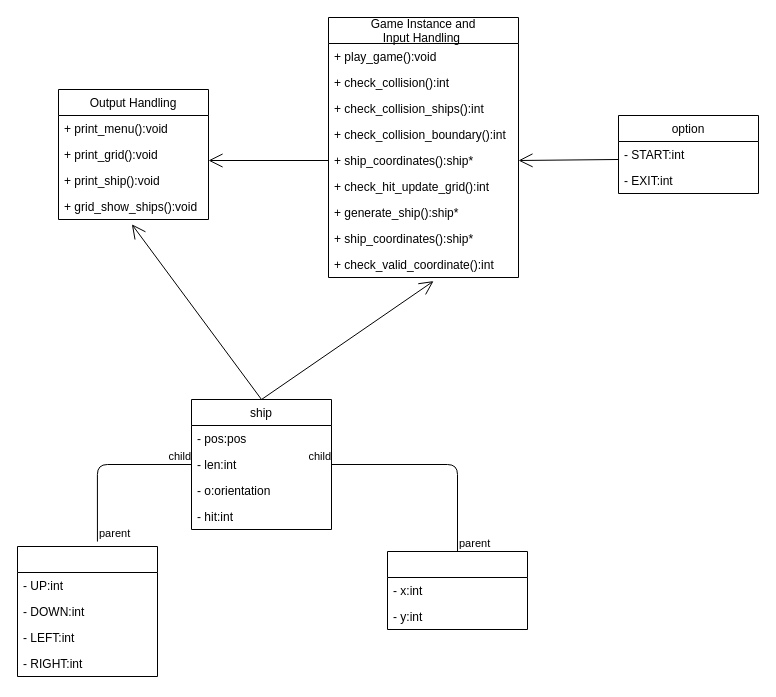
This 776x697 diagram has some shape labels left out. The box of each missing label's shape, as (x1, y1, x2, y2) in pixels:
orientation: (16, 546, 158, 676)
pos: (386, 550, 528, 630)
